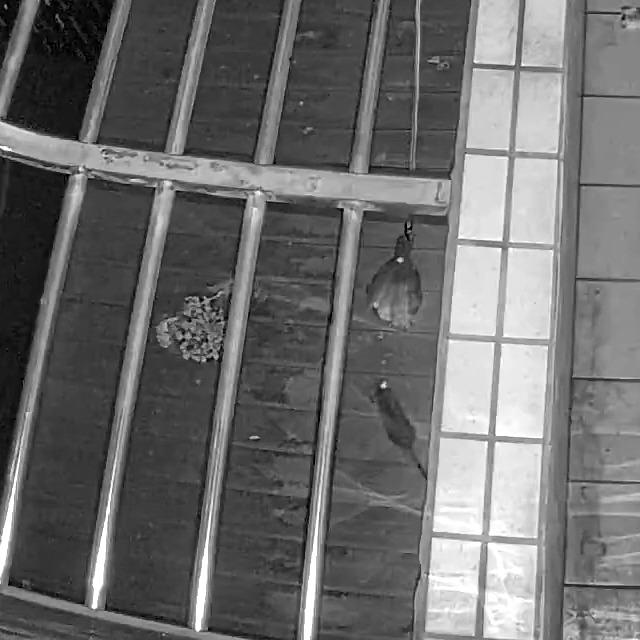rat: (368, 376, 428, 486)
